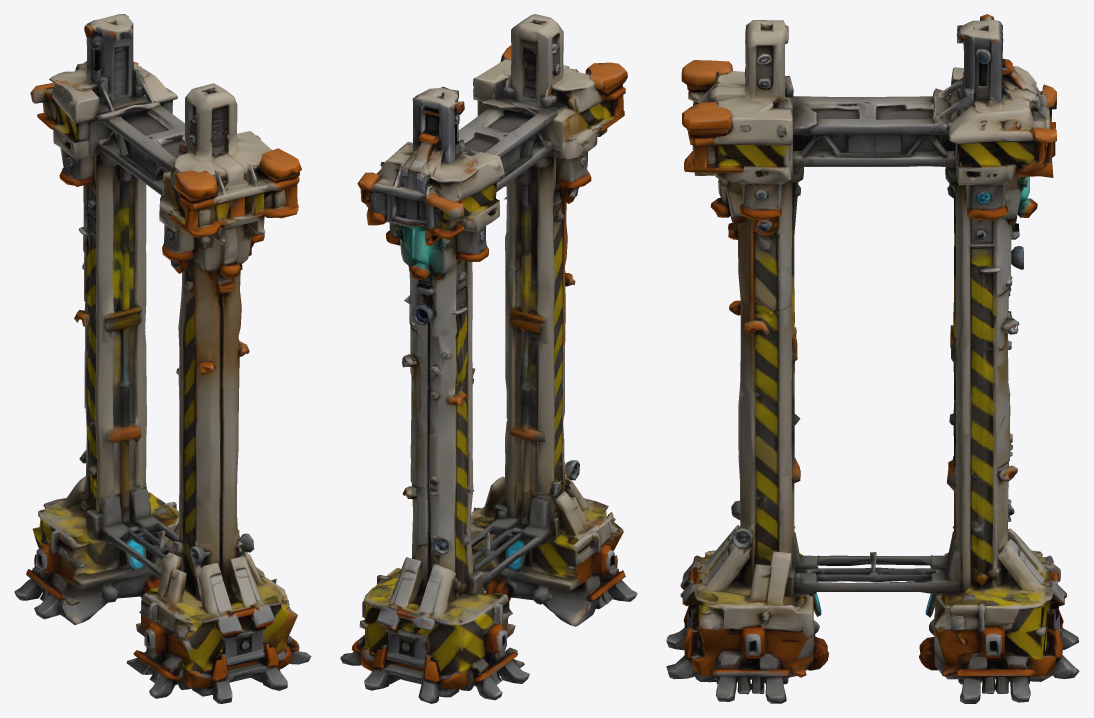
The model's file is montecharge.glb.
3 renders of one model, left to right at view 1: azimuth 30°, elevation 25°; view 2: azimuth 150°, elevation 25°; view 3: azimuth 270°, elevation 25°, orthographic. The views are drawn at different scales.
Visible parts, largest first — view 1: tripo_node_2ee70273-3c62-4c5e-b915-7c7d731d9d85; view 2: tripo_node_2ee70273-3c62-4c5e-b915-7c7d731d9d85; view 3: tripo_node_2ee70273-3c62-4c5e-b915-7c7d731d9d85.
Boxes of the visible parts, <box> form: tripo_node_2ee70273-3c62-4c5e-b915-7c7d731d9d85: <box>14,14,311,703</box>; tripo_node_2ee70273-3c62-4c5e-b915-7c7d731d9d85: <box>340,14,637,703</box>; tripo_node_2ee70273-3c62-4c5e-b915-7c7d731d9d85: <box>666,14,1079,703</box>.
Bounding box in the file's own units: 0.2988 × 1 × 0.5888.
Materials: 1 (1 with a texture image).
